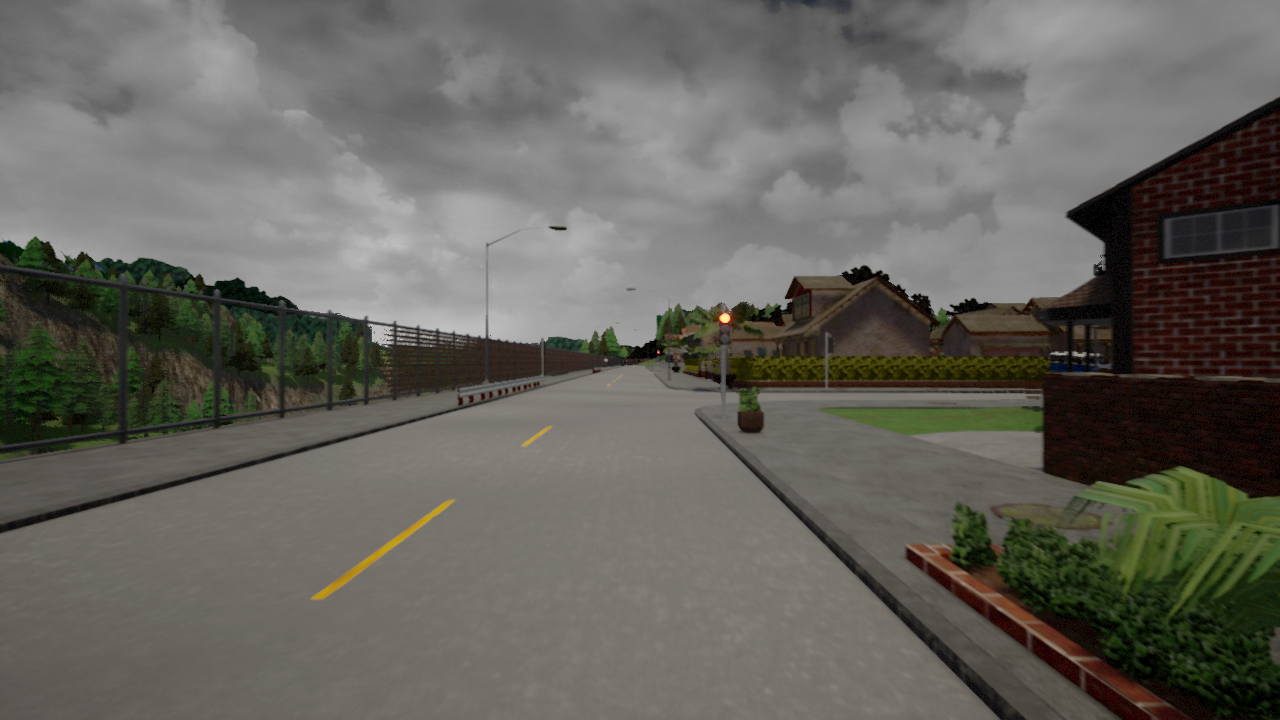red: (719, 311, 730, 346)
